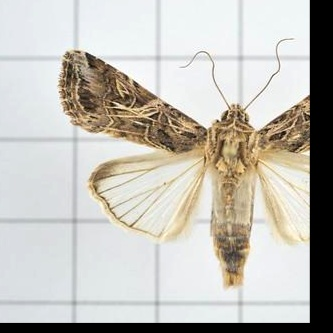Spodoptera litura: (55, 37, 309, 288)
